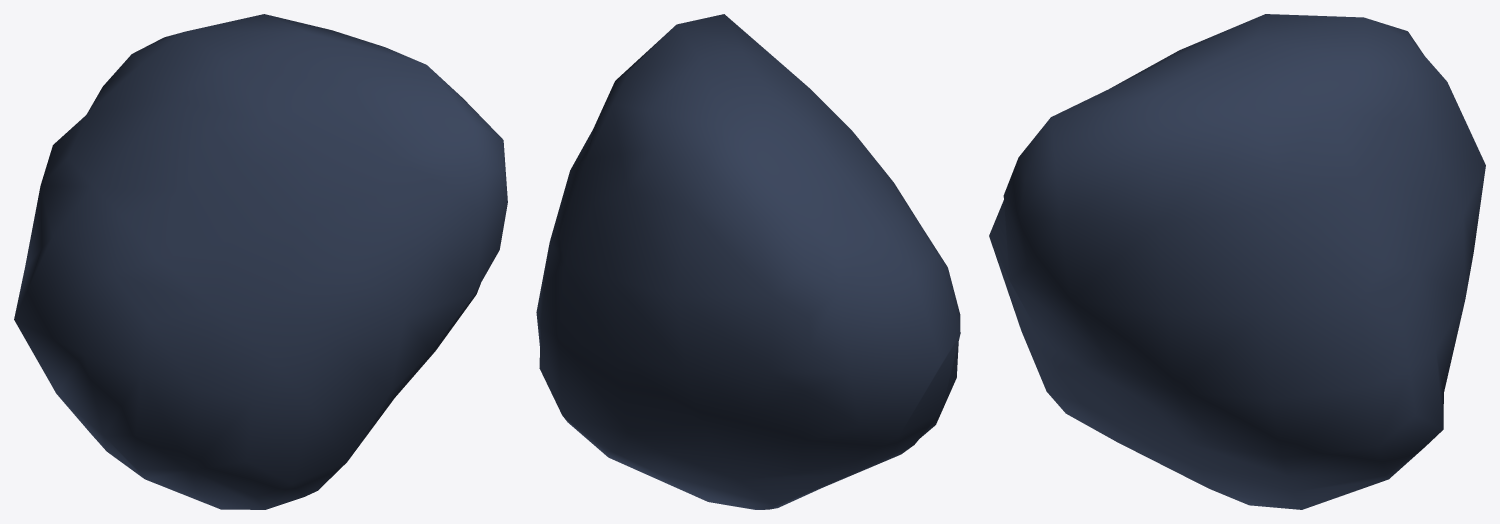
Rendered from Rock_7.fbx.
3 views of the same model, side by side, from view 1: azimuth 30°, elevation 25°; view 2: azimuth 150°, elevation 25°; view 3: azimuth 270°, elevation 25° (orthographic). The views are drawn at different scales.
Visible parts, largest first — view 1: Rock 7; view 2: Rock 7; view 3: Rock 7.
Boxes of the visible parts, x1=… form: Rock 7: x1=14, y1=14, x2=507, y2=509; Rock 7: x1=536, y1=14, x2=960, y2=509; Rock 7: x1=989, y1=14, x2=1485, y2=509.
Size of the model in its own units: 139 by 149 by 134.
